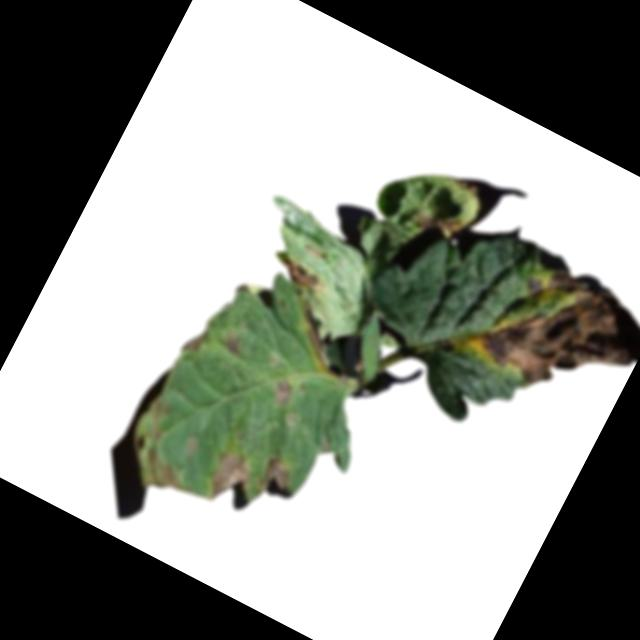Early_blight: (462, 246, 640, 423), (283, 301, 348, 366), (198, 445, 259, 513), (411, 198, 469, 246), (271, 252, 331, 297), (255, 453, 300, 502), (180, 321, 209, 358), (267, 376, 298, 408), (221, 332, 245, 354)
